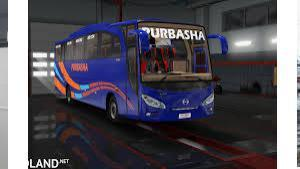bus: (54, 20, 228, 125)
